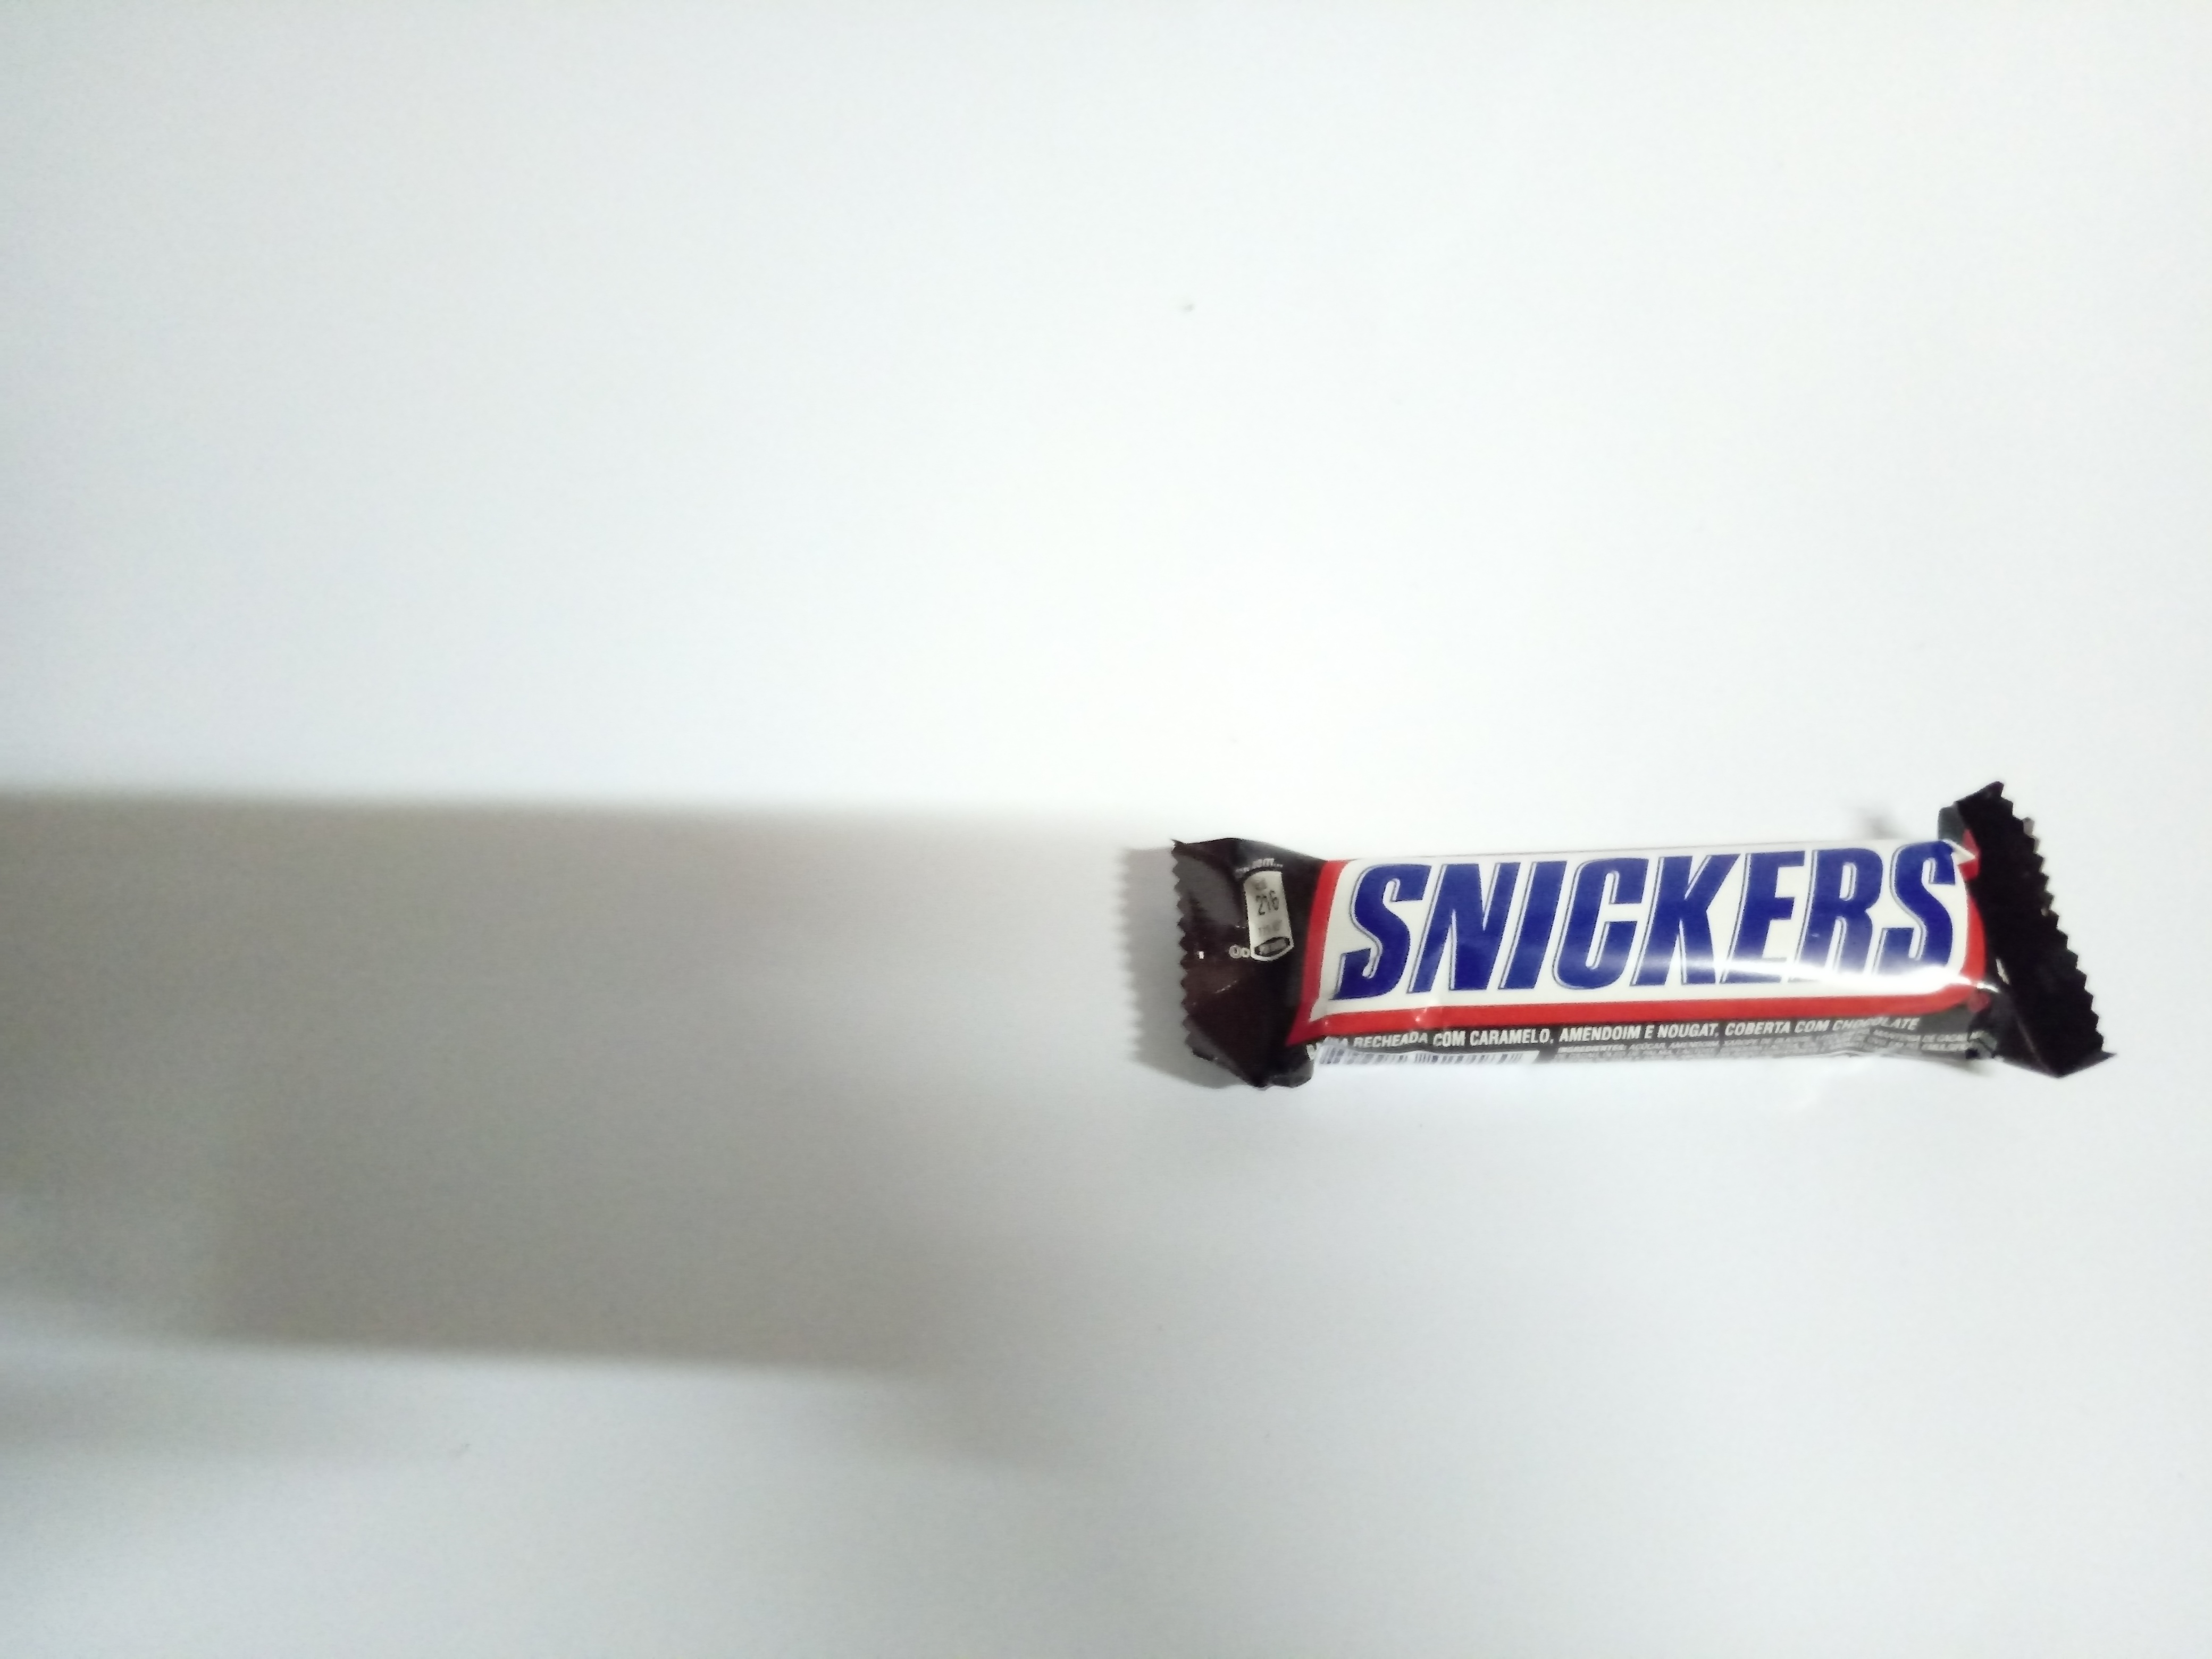snickers: (1153, 767, 2118, 1110)
